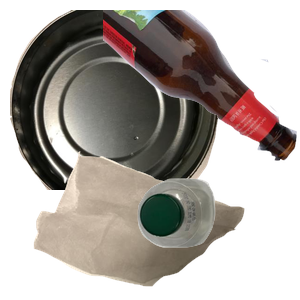glass: (103, 10, 300, 163)
metal: (10, 10, 221, 190)
plastic: (135, 176, 300, 300)
trash: (31, 149, 268, 300)
